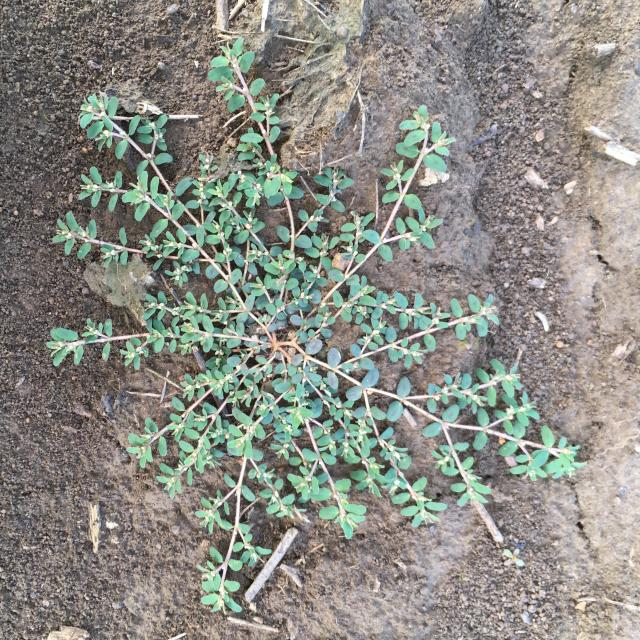SpottedSpurge: (46, 38, 587, 614)
